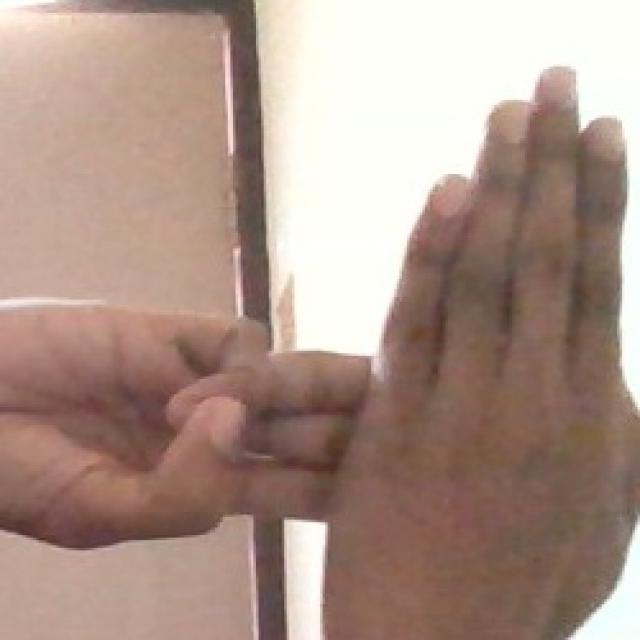Alphabet-M: (0, 47, 640, 640)
